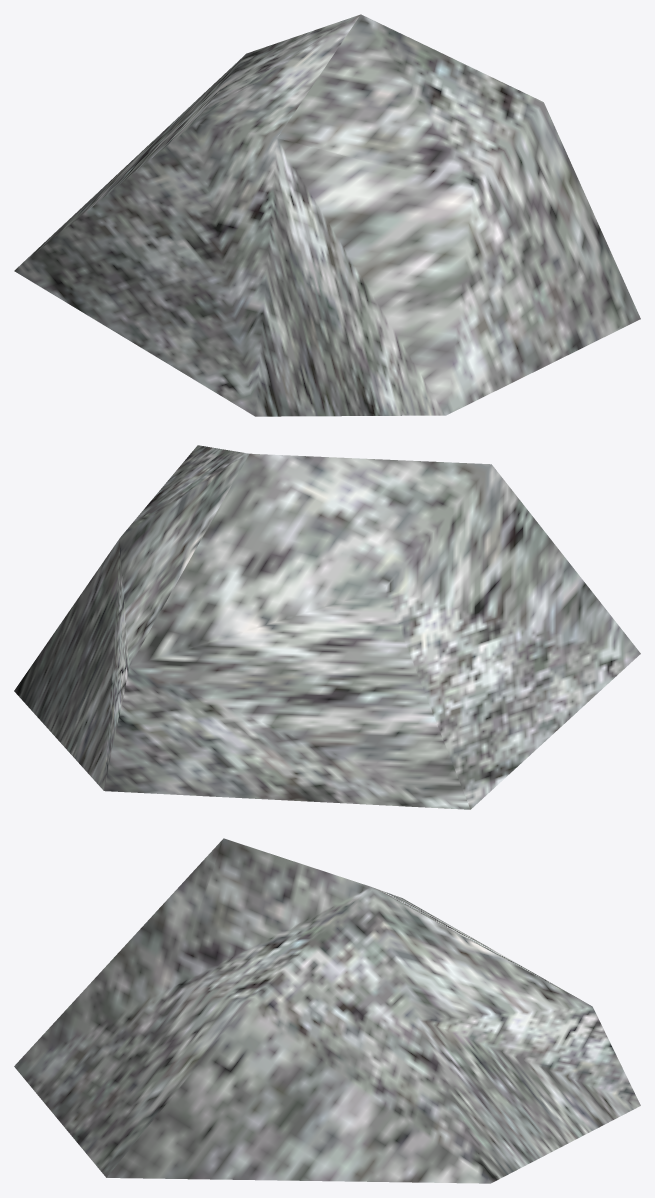
File: wrld_rock_snow1.glb
3 renders of one model, top to bottom at view 1: azimuth 30°, elevation 25°; view 2: azimuth 150°, elevation 25°; view 3: azimuth 270°, elevation 25°, orthographic. The views are drawn at different scales.
Parts seen in each view (by area): view 1: wrld_rock_snow1; view 2: wrld_rock_snow1; view 3: wrld_rock_snow1.
Part boxes in pixels (x1,y1,x2,y2): wrld_rock_snow1: [14, 14, 640, 416]; wrld_rock_snow1: [14, 445, 640, 809]; wrld_rock_snow1: [14, 838, 640, 1183].
Bounding box in the file's own units: 1.48 × 0.7524 × 1.87.
1 material, 1 textured.
